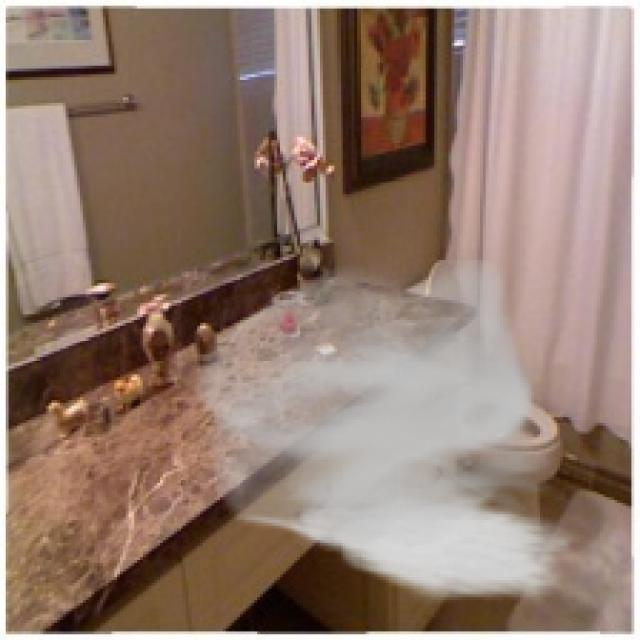Smoke: (183, 257, 580, 606)
